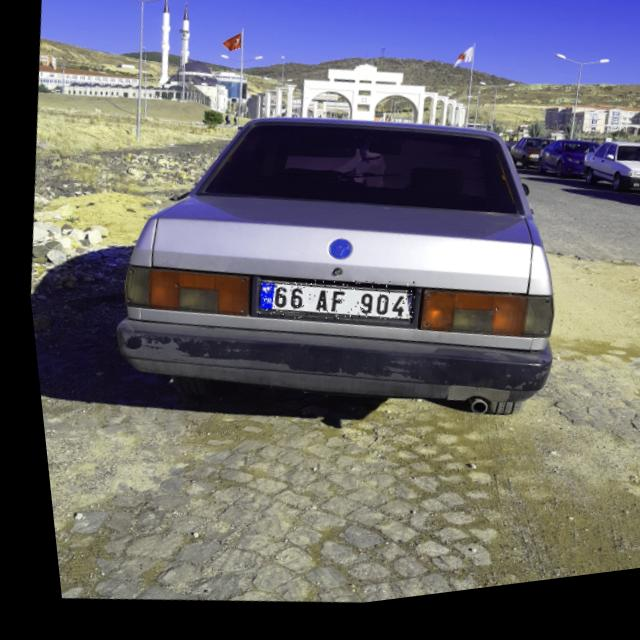license_plate: (247, 270, 412, 346)
